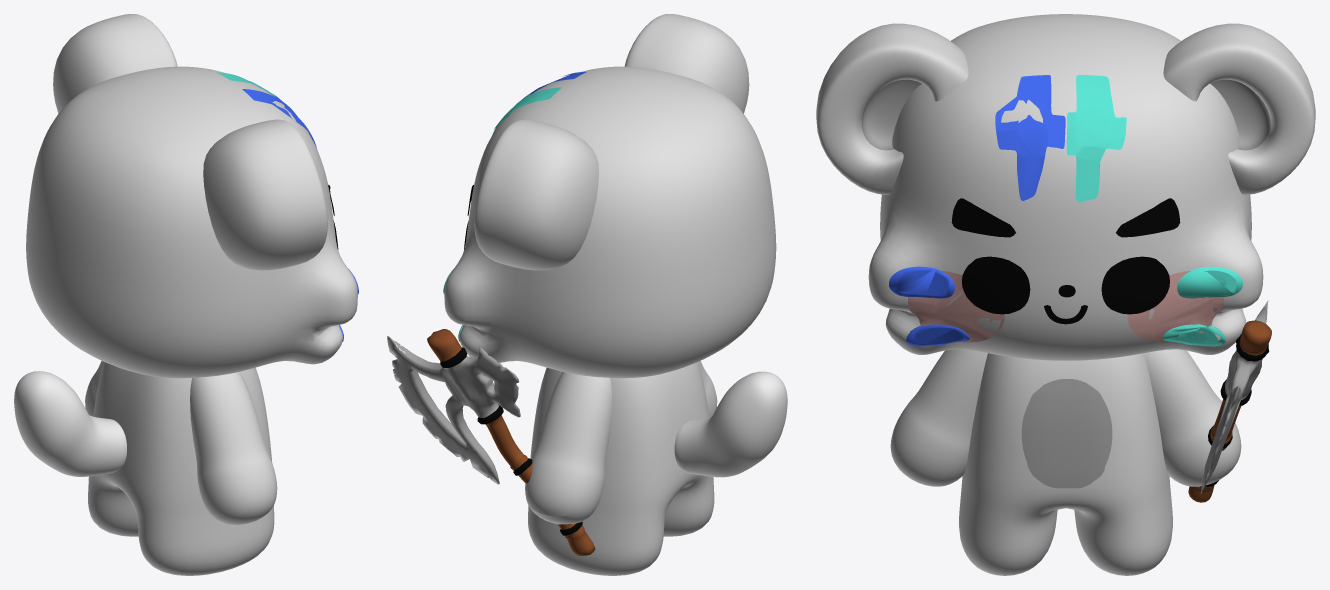
File: hoi_woodcutter.fbx
3 views of the same model, side by side, from view 1: azimuth 30°, elevation 25°; view 2: azimuth 150°, elevation 25°; view 3: azimuth 270°, elevation 25° (orthographic). The views are drawn at different scales.
Visible parts, largest first — view 1: body, tail; view 2: body, default_03 - Default_0, tail; view 3: body, default_03 - Default_0, eye_right, eye_left.
Part boxes in pixels (x1=…): body: x1=26, y1=14, x2=358, y2=575; tail: x1=14, y1=371, x2=126, y2=476; body: x1=443, y1=14, x2=776, y2=575; default_03 - Default_0: x1=387, y1=329, x2=595, y2=555; tail: x1=674, y1=371, x2=787, y2=477; body: x1=816, y1=14, x2=1315, y2=575; default_03 - Default_0: x1=1188, y1=300, x2=1271, y2=502; eye_right: x1=1101, y1=256, x2=1169, y2=314; eye_left: x1=961, y1=256, x2=1030, y2=314.
Bounding box in the file's own units: 344 × 480 × 406.
